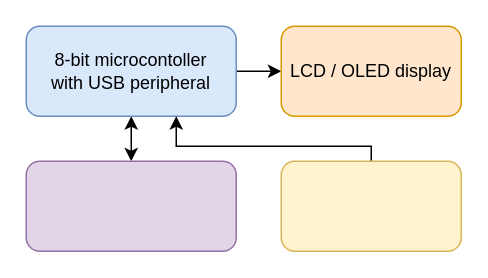
Image size: 488x278. Some labels were removed from this diagram. Each missing label, with the centre of its shape:
"Buttons" belongs at [370,205].
"Wi-Fi + Bluetooth LE MCU module" belongs at [130,205].
